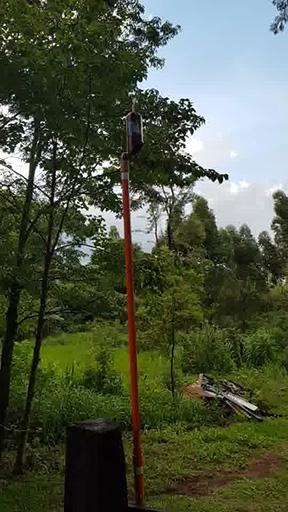Detector_Tensao_Contato: (125, 100, 146, 159)
Vara_Manobra: (118, 157, 144, 512)
